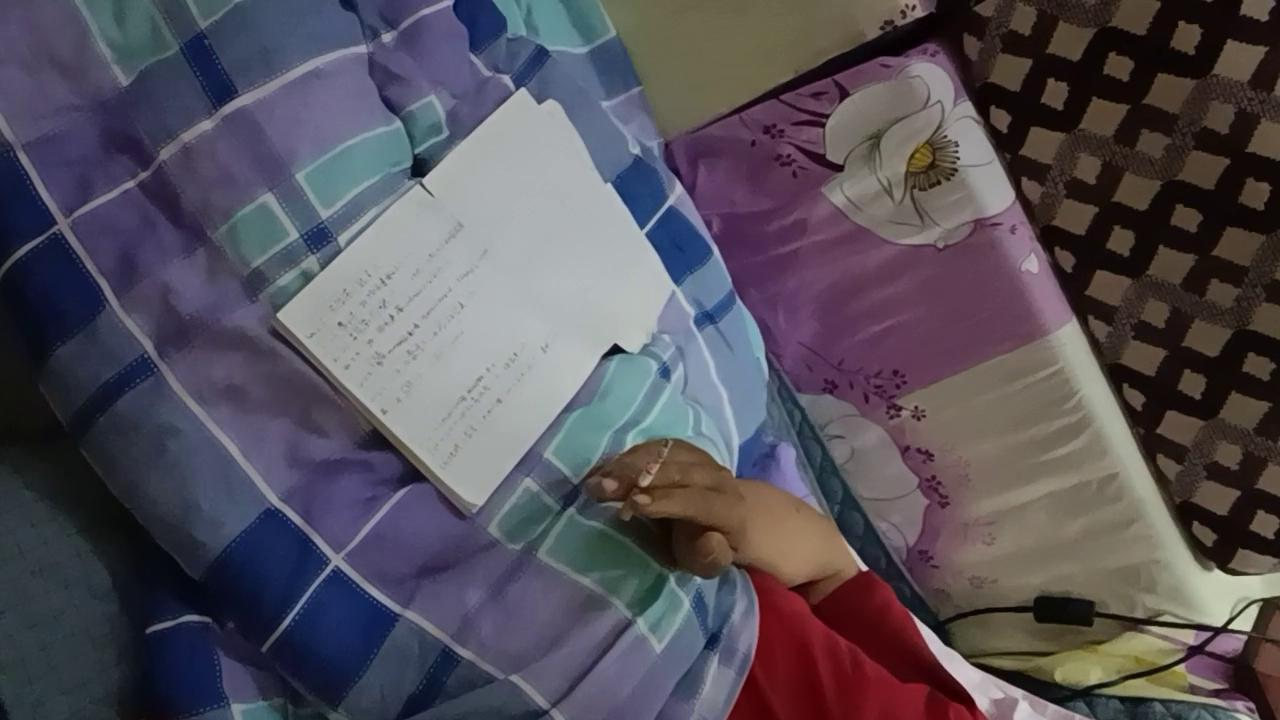smoke: (616, 436, 674, 522)
